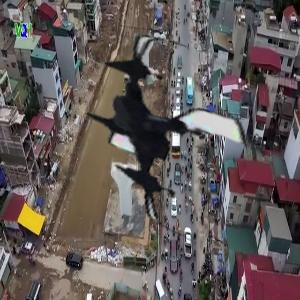drone: (72, 37, 271, 236)
